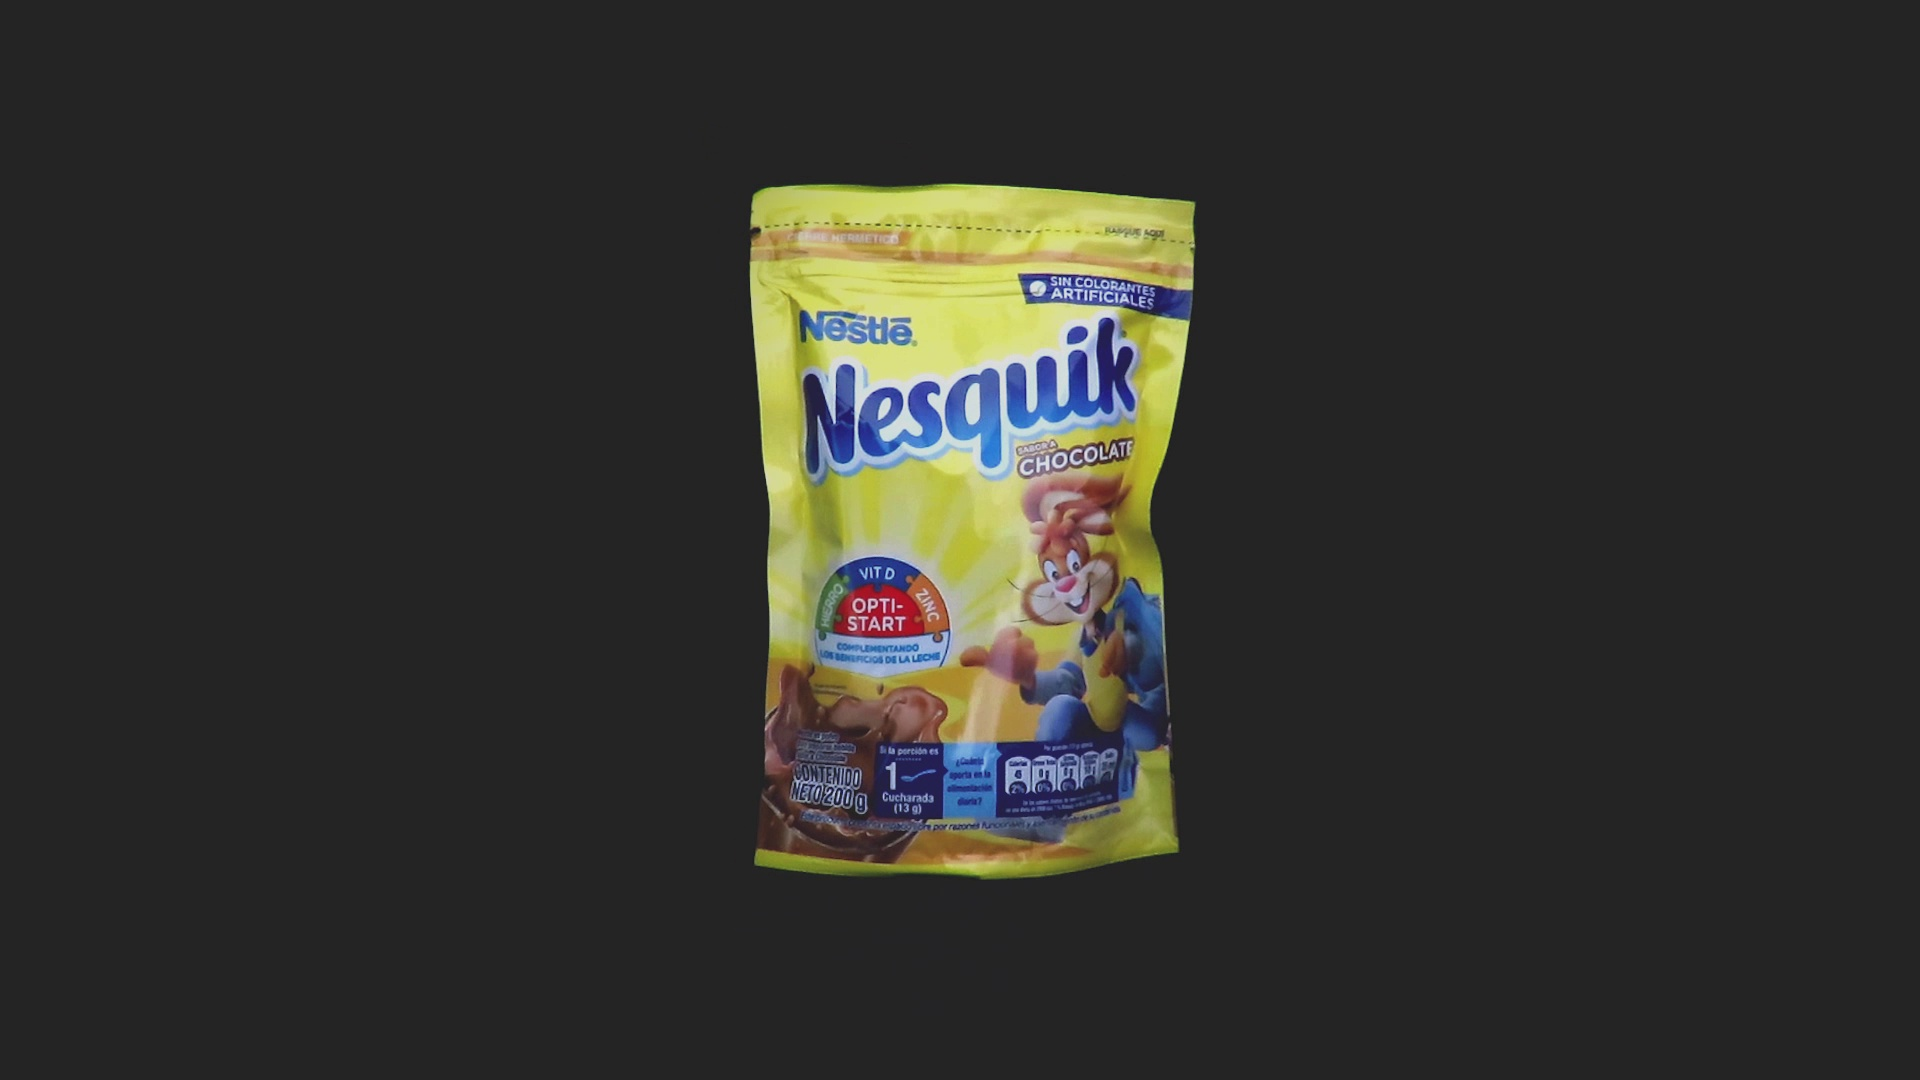COL0170303DYP20000: (744, 179, 1203, 886)
